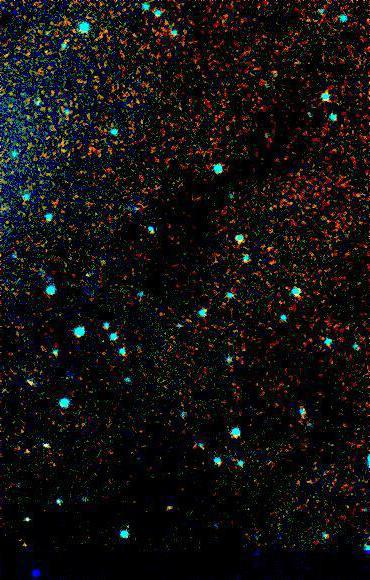star: (13, 437, 43, 467)
